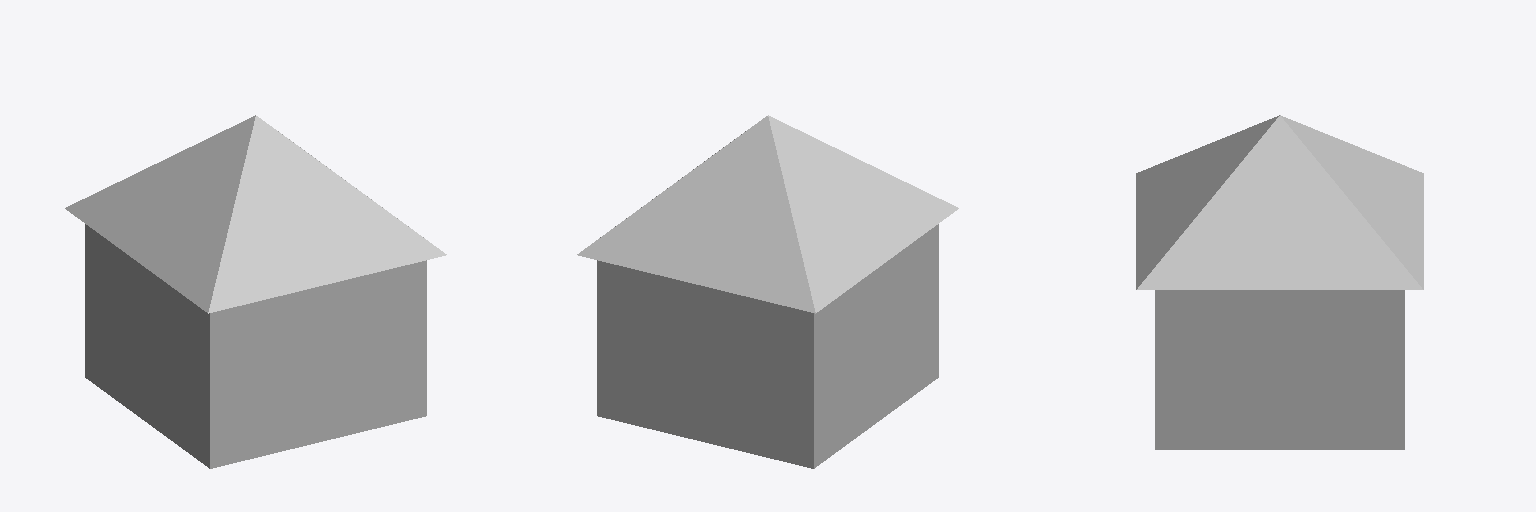
File: smallchurch-1.obj
The picture shows the model from 3 angles: view 1: azimuth 30°, elevation 25°; view 2: azimuth 150°, elevation 25°; view 3: azimuth 270°, elevation 25°; orthographic projection.
Parts seen in each view (by area): view 1: house_wall.003, house_roof.002; view 2: house_wall.003, house_roof.002; view 3: house_roof.002, house_wall.003.
Boxes of the visible parts, <box> form: house_wall.003: <box>85,224,426,468</box>; house_roof.002: <box>65,115,446,313</box>; house_wall.003: <box>597,224,938,468</box>; house_roof.002: <box>577,115,958,313</box>; house_roof.002: <box>1136,115,1423,289</box>; house_wall.003: <box>1155,290,1404,449</box>.
Bounding box in the file's own units: 7.05 × 7.93 × 7.34.